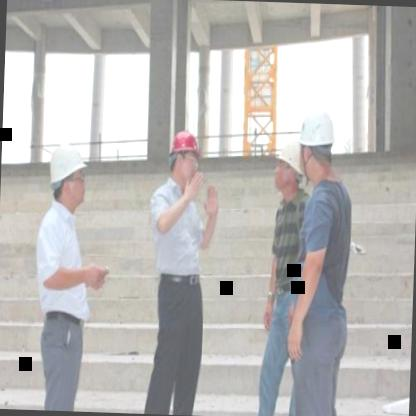helmet: (46, 140, 93, 221), (295, 101, 337, 182), (167, 126, 202, 184), (269, 142, 304, 196)
